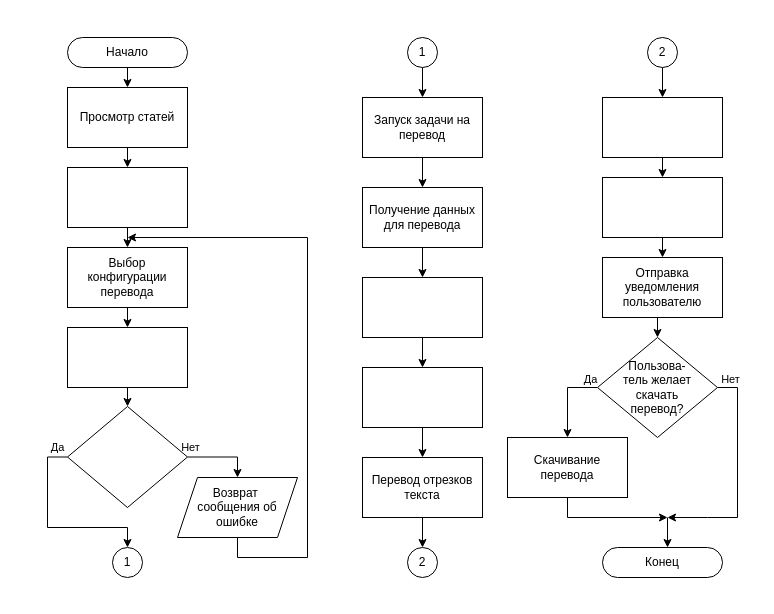
Image size: 774x614. Some labels were removed from this diagram. Each missing label, with the box of its shape:
Выбор статьи для перевода: (66, 166, 188, 228)
Данные валидны?: (66, 406, 188, 508)
Объединение переведённых отрезков: (602, 96, 722, 158)
Отправка формы: (66, 326, 188, 388)
Перевод заголовка: (362, 276, 482, 338)
Разбиение текста на отрезки: (362, 366, 482, 428)
Списание средств с баланса пользователя: (602, 176, 722, 238)
